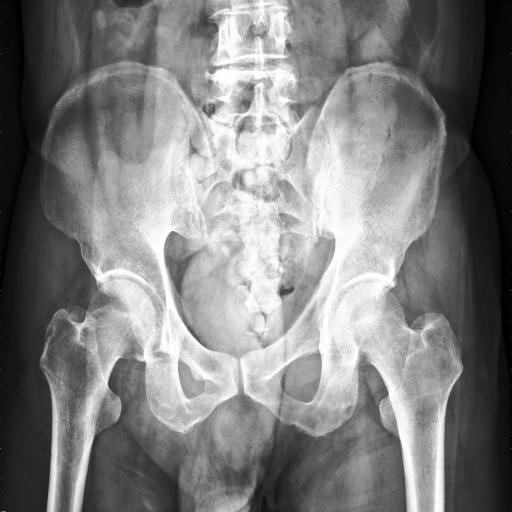normal: (333, 283, 463, 512), (40, 279, 157, 512)
